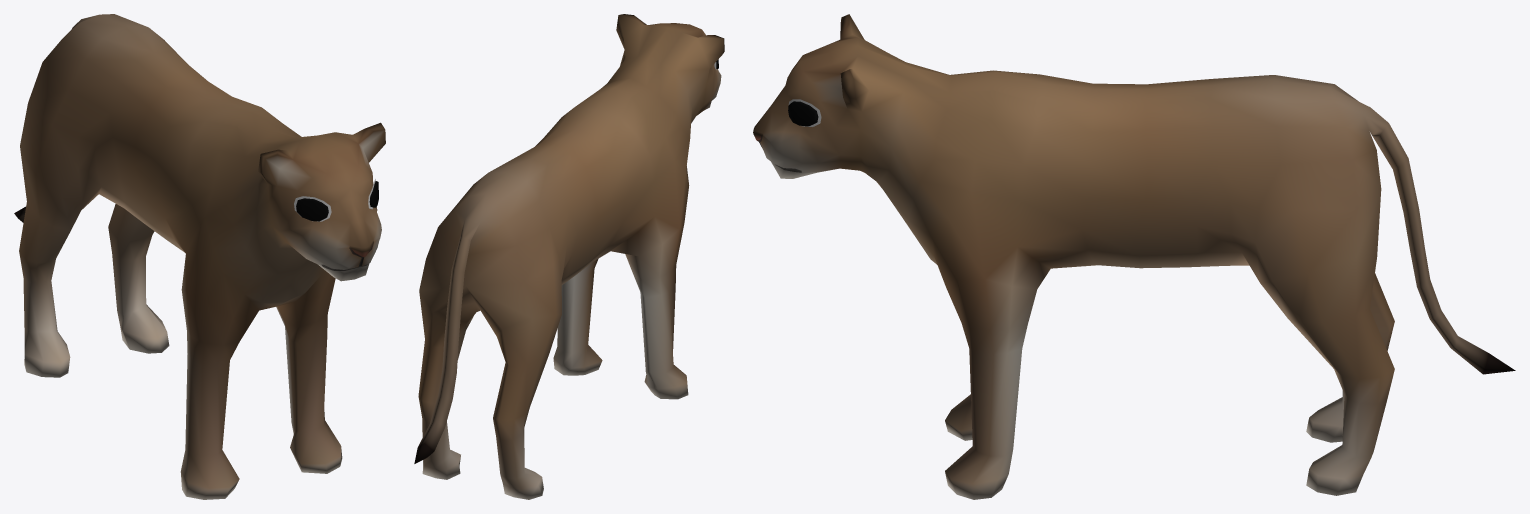
The model's file is animals-animals-lion_v2.glb.
3 views of the same model, side by side, from view 1: azimuth 30°, elevation 25°; view 2: azimuth 150°, elevation 25°; view 3: azimuth 270°, elevation 25° (orthographic). The views are drawn at different scales.
Parts seen in each view (by area): view 1: Lion_v2; view 2: Lion_v2; view 3: Lion_v2.
Boxes of the visible parts, x1,y1,x2,y2 form: Lion_v2: [14, 14, 385, 499]; Lion_v2: [414, 14, 724, 499]; Lion_v2: [753, 14, 1515, 499].
Bounding box in the file's own units: 0.5703 × 1.33 × 2.22.
